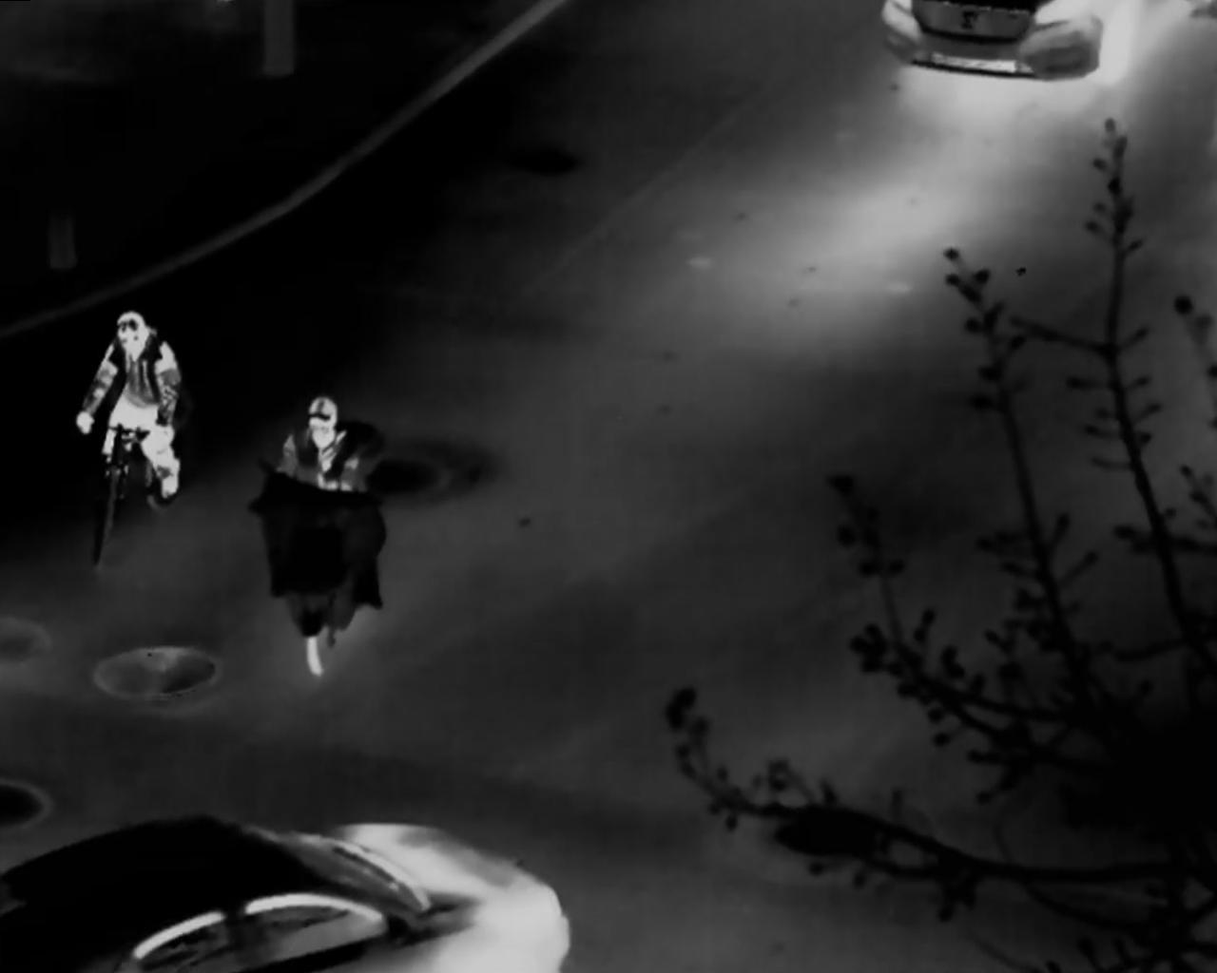person: (75, 310, 180, 498), (274, 394, 362, 497)
